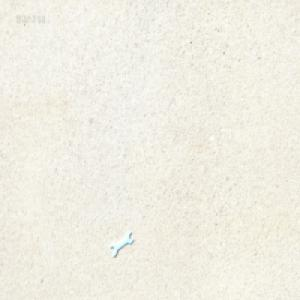Wrench: (111, 230, 133, 258)
